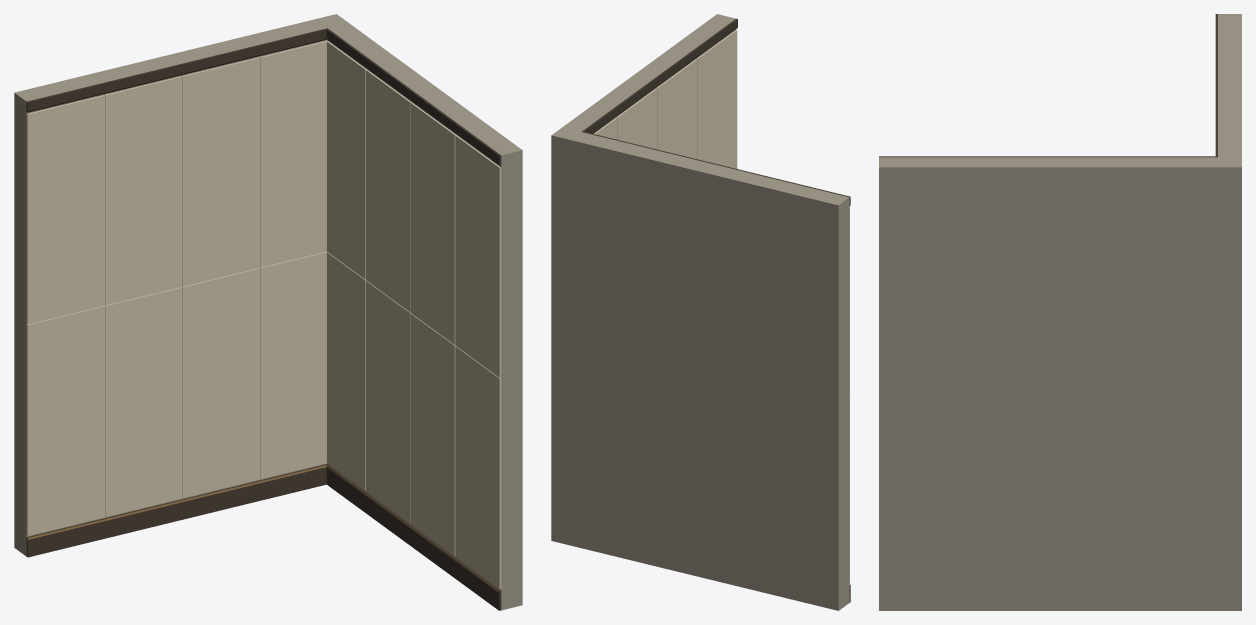
The model's file is mall-wall-corner-2m-lod1.glb.
The picture shows the model from 3 angles, left to right: view 1: azimuth 30°, elevation 25°; view 2: azimuth 150°, elevation 25°; view 3: azimuth 270°, elevation 25°; orthographic projection. The views are drawn at different scales.
Parts seen in each view (by area): view 1: West Eight limestone panels LOD1, Return Eight limestone panels LOD1, Return Continuous backing LOD1, West Continuous backing LOD1, West Bronze trims LOD1, Return Bronze trims LOD1; view 2: West Continuous backing LOD1, Return Eight limestone panels LOD1, Return Continuous backing LOD1, Return Bronze trims LOD1, West Bronze trims LOD1; view 3: Return Continuous backing LOD1, West Continuous backing LOD1, Return Bronze trims LOD1.
Boxes of the visible parts, x1,y1,x2,y2 form: West Eight limestone panels LOD1: (27,40,327,535); Return Eight limestone panels LOD1: (327,41,501,589); Return Continuous backing LOD1: (327,14,522,610); West Continuous backing LOD1: (14,14,336,556); West Bronze trims LOD1: (26,28,327,557); Return Bronze trims LOD1: (326,28,501,610); West Continuous backing LOD1: (551,132,849,610); Return Eight limestone panels LOD1: (594,30,737,168); Return Continuous backing LOD1: (552,14,736,135); Return Bronze trims LOD1: (582,18,737,133); West Bronze trims LOD1: (582,131,850,602); Return Continuous backing LOD1: (879,157,1241,610); West Continuous backing LOD1: (1218,14,1241,166); Return Bronze trims LOD1: (879,156,1217,157).
Bounding box in the file's own units: 2.08 × 2.8 × 2.08.
